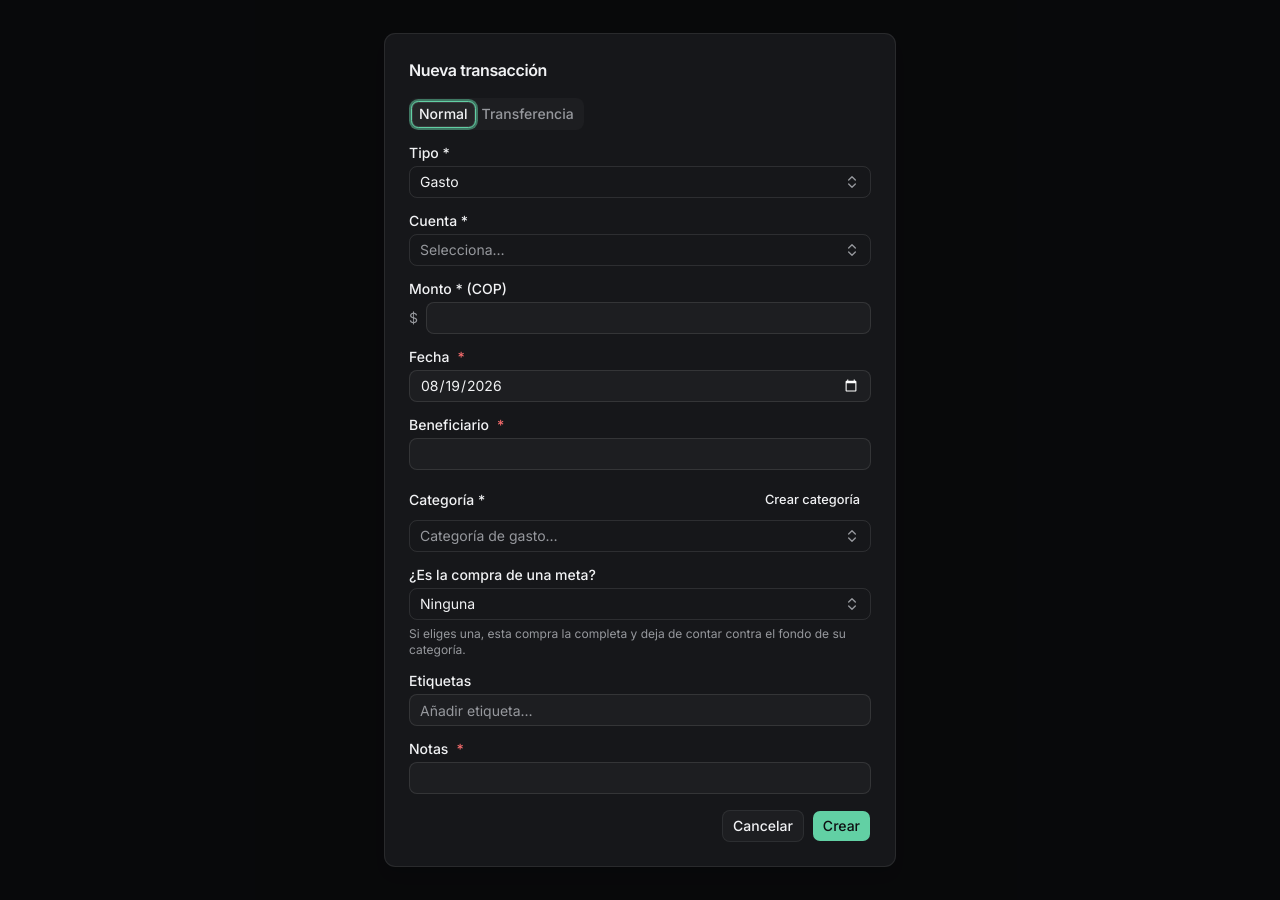
AC-5 — a hand-typed payment may name the charge it settled › Saving an expense offers the marked charges of its category
The width and height of the screenshot is (1280, 900).
Click the dropdown named "Categoría *". click: click(489, 536)
box: [409, 520, 871, 552]
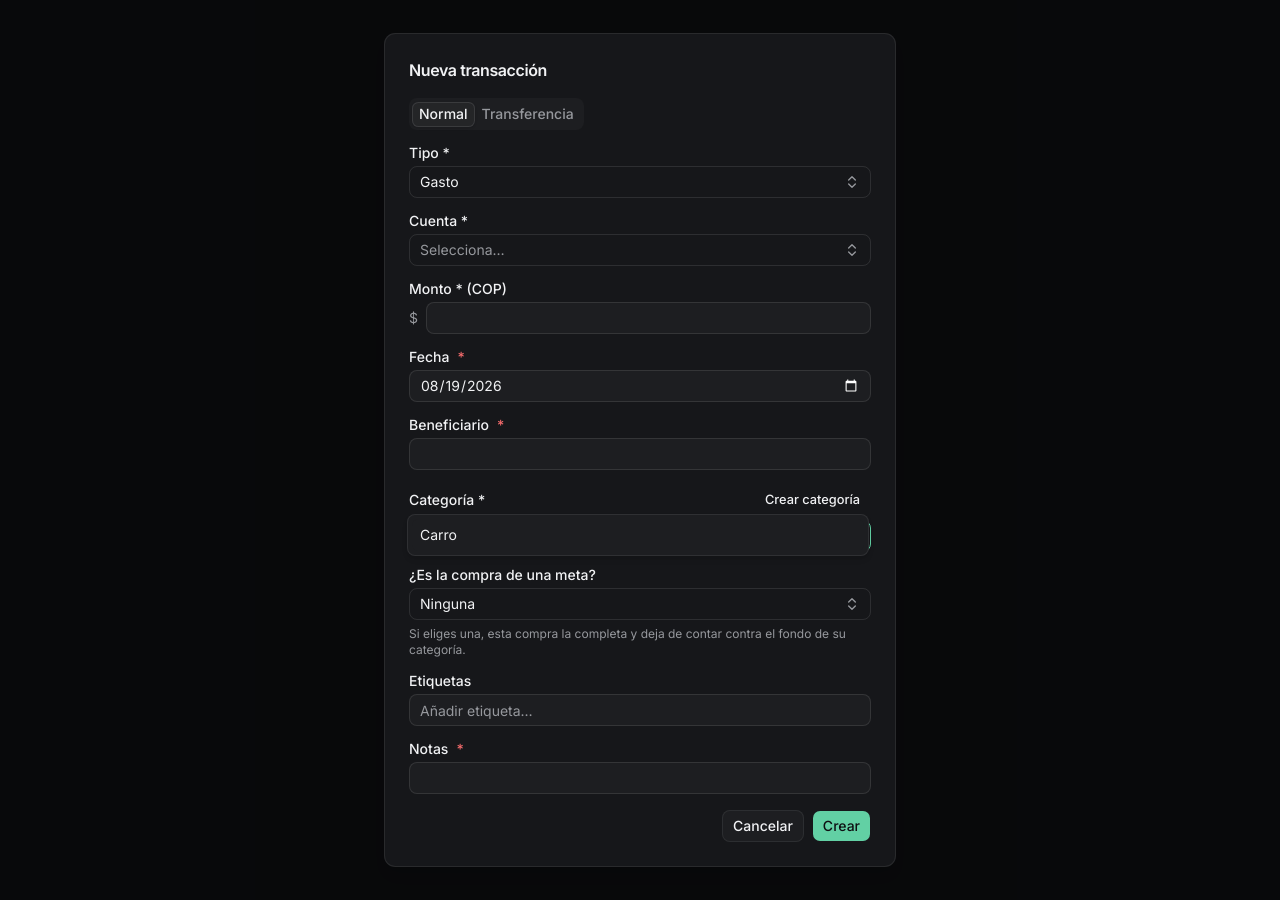
Click the option "Carro". click: click(439, 534)
box: [412, 519, 864, 551]
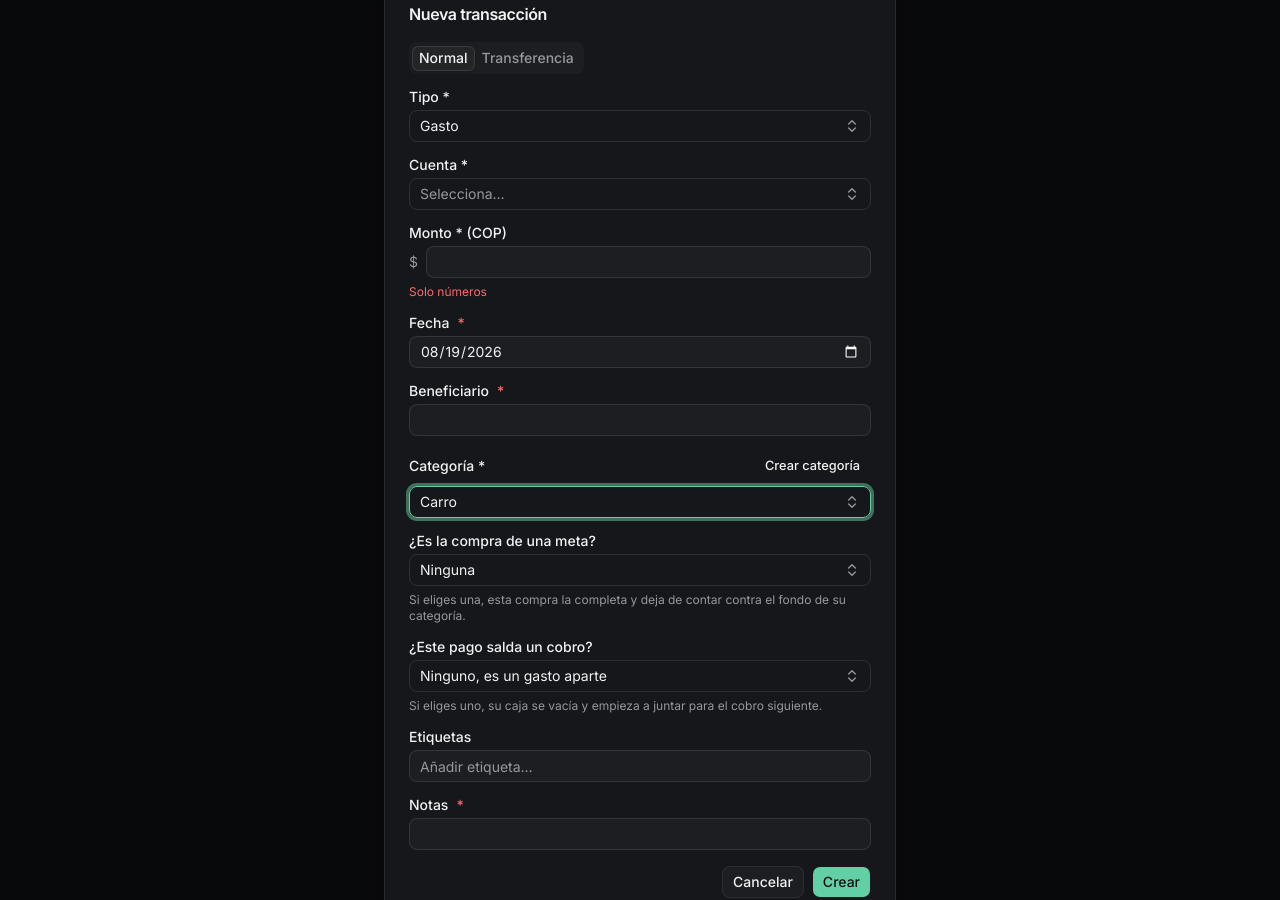
Click the dropdown named "salda un cobro". click: click(513, 676)
box: [409, 660, 871, 692]
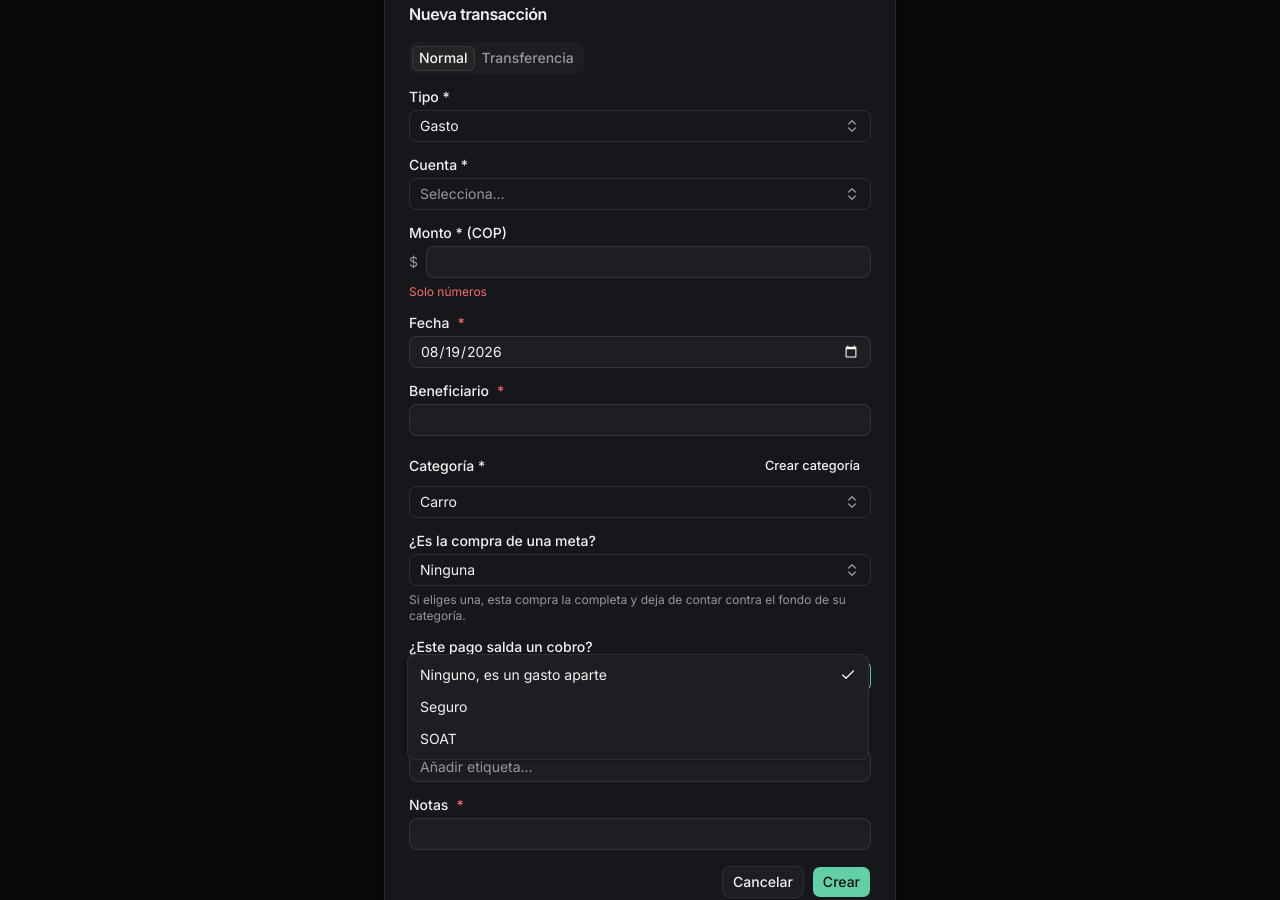
Expected: the option "Seguro" is shown, [420, 698, 468, 715]
Expected: the option "SOAT" is shown, [420, 730, 457, 747]
Expected: the option "Ninguno, es un gasto aparte" is shown, [412, 659, 864, 691]
